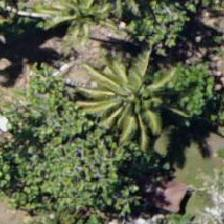coconut_tree: (82, 52, 172, 142)
